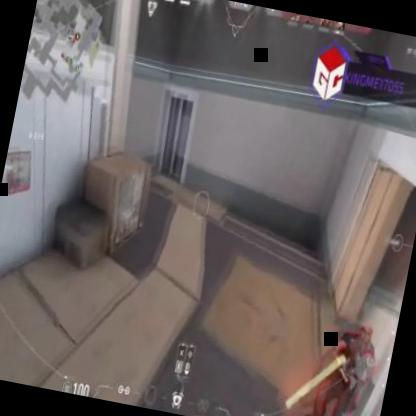enemy: (299, 303, 384, 416)
enemy_head: (354, 321, 372, 357)
